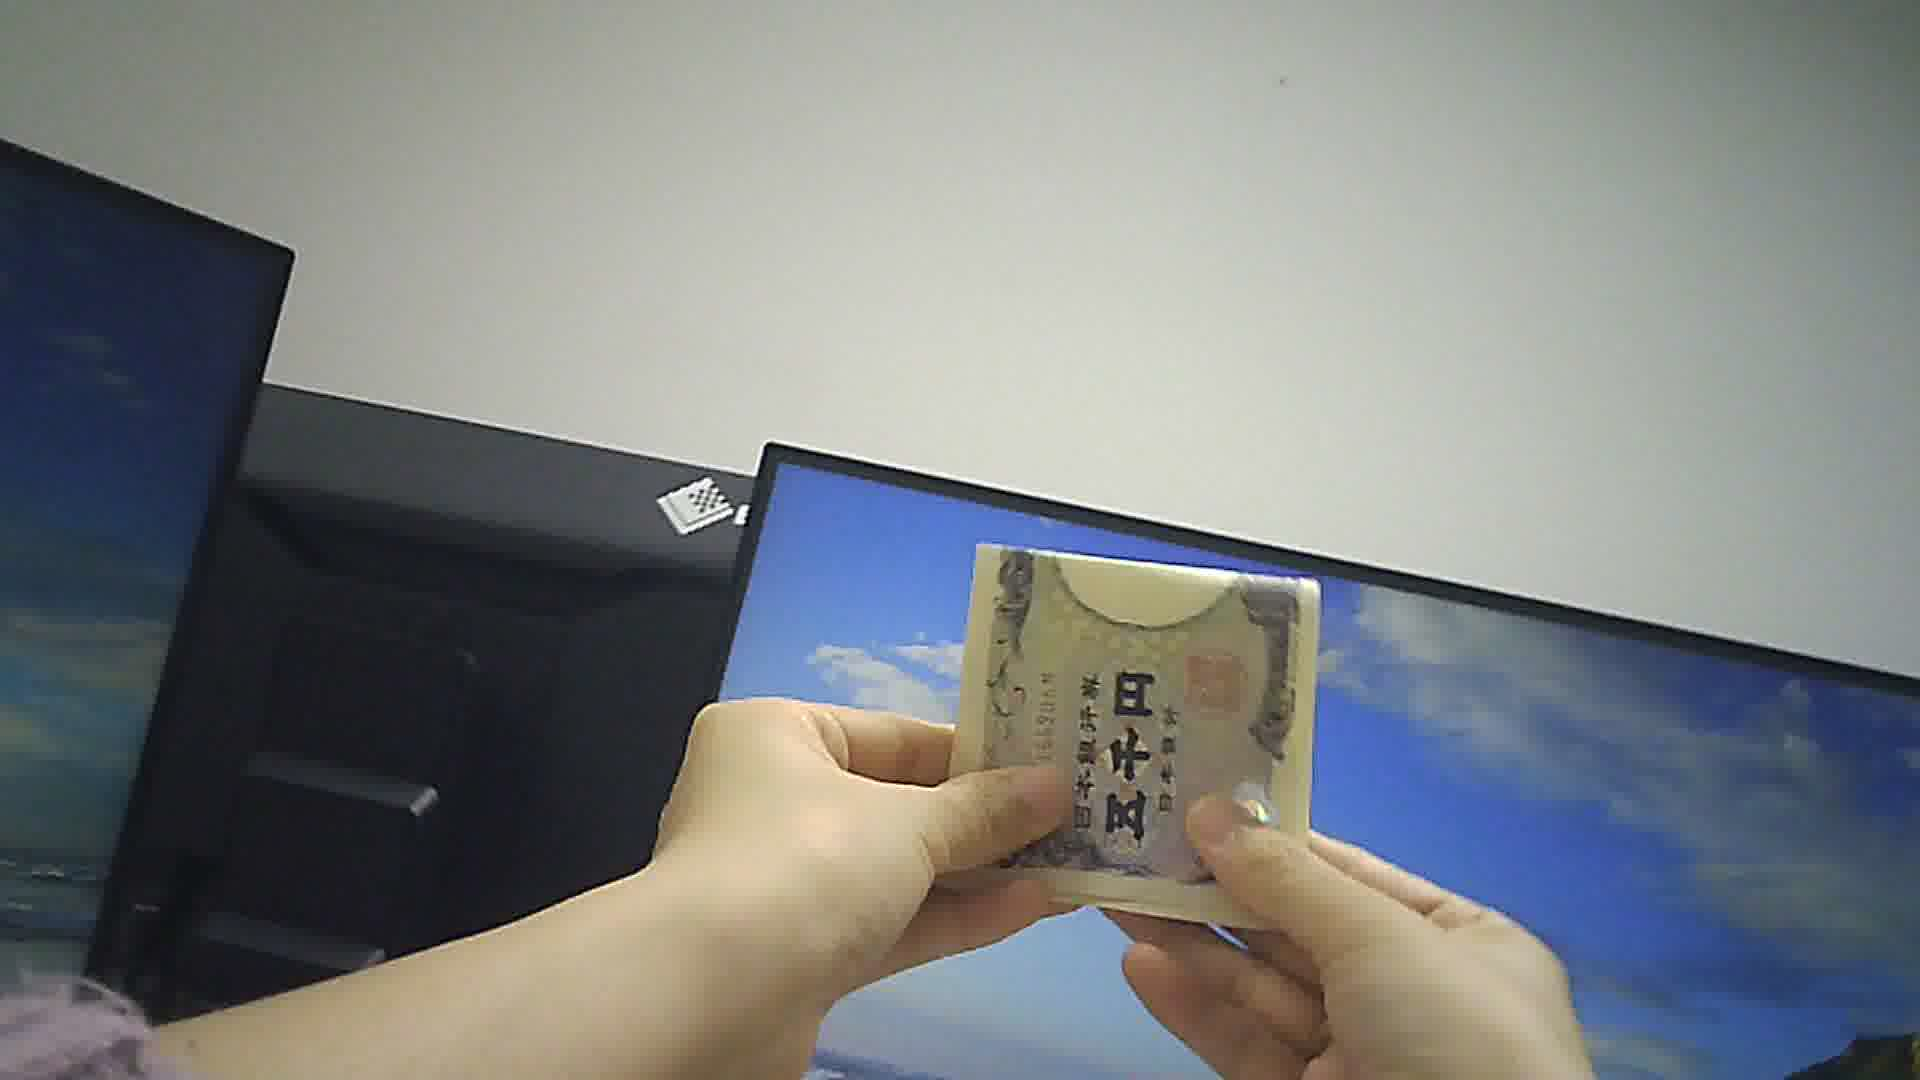5,000 Yen: (942, 520, 1346, 942)
